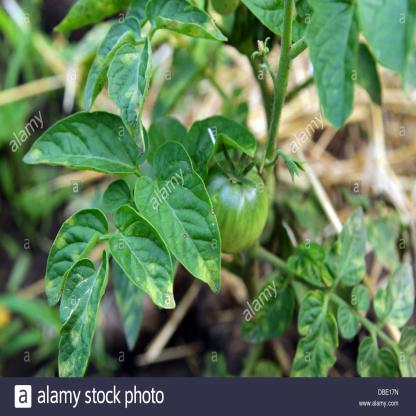tomato leaf mosaic virus: (136, 146, 223, 289), (16, 109, 154, 185), (44, 202, 106, 309), (107, 44, 156, 139), (292, 294, 333, 381), (324, 209, 366, 289)
